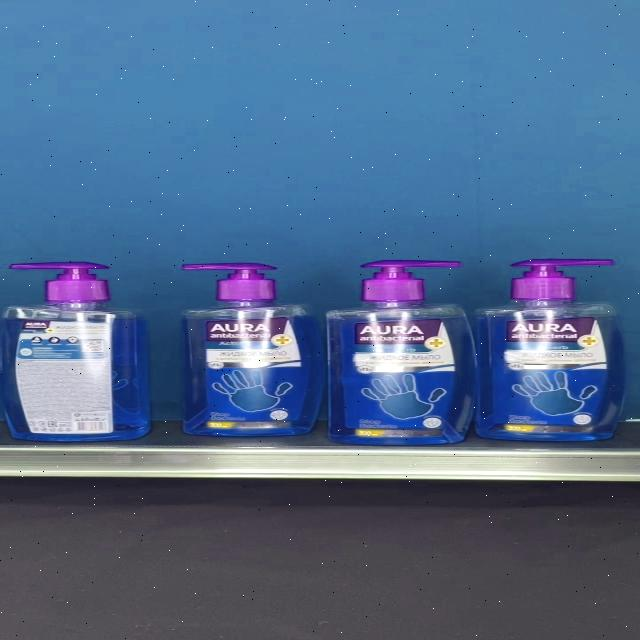Bottle: (326, 260, 478, 444), (475, 258, 628, 440), (0, 261, 150, 441), (180, 262, 326, 436)
Cap: (509, 258, 611, 302), (359, 260, 461, 302), (9, 261, 108, 301), (182, 262, 276, 300)
